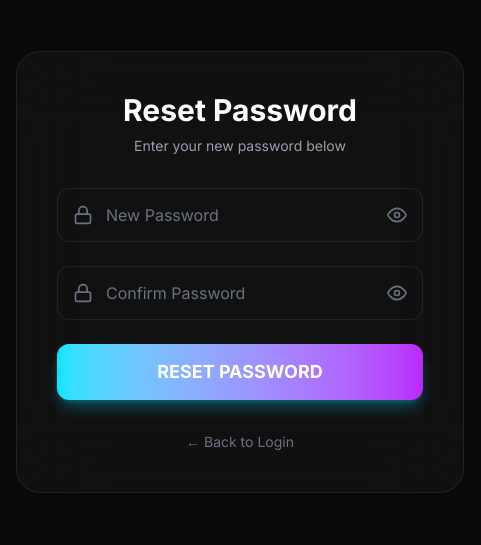
ResetPasswordForm › shows error when passwords do not match
Type "password123" into the password field with placeholder "New Password".
click(240, 215); type("password123")  # box [57,188,423,242]
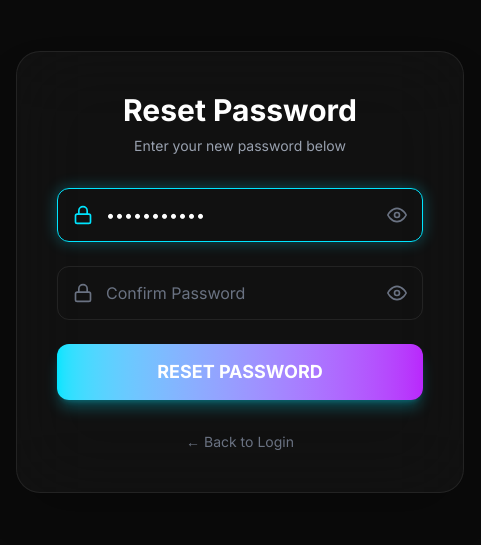
Type "differentpass" into the password field with placeholder "Confirm Password".
click(240, 293); type("differentpass")  # box [57,266,423,320]
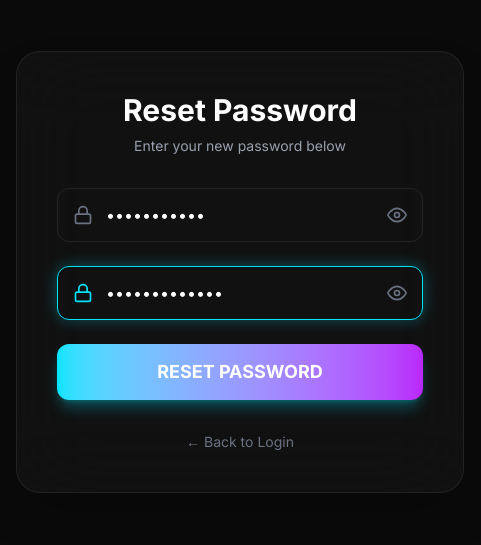
Click the button "RESET PASSWORD".
click(240, 372)  # box [57,344,423,400]
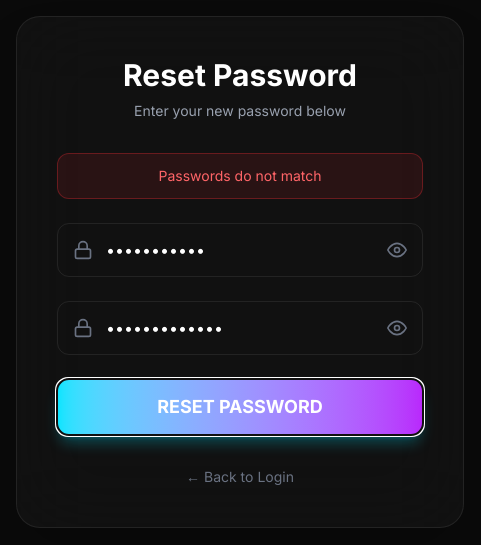
Check: the text "Passwords do not match" is shown, box [57,153,423,199]
